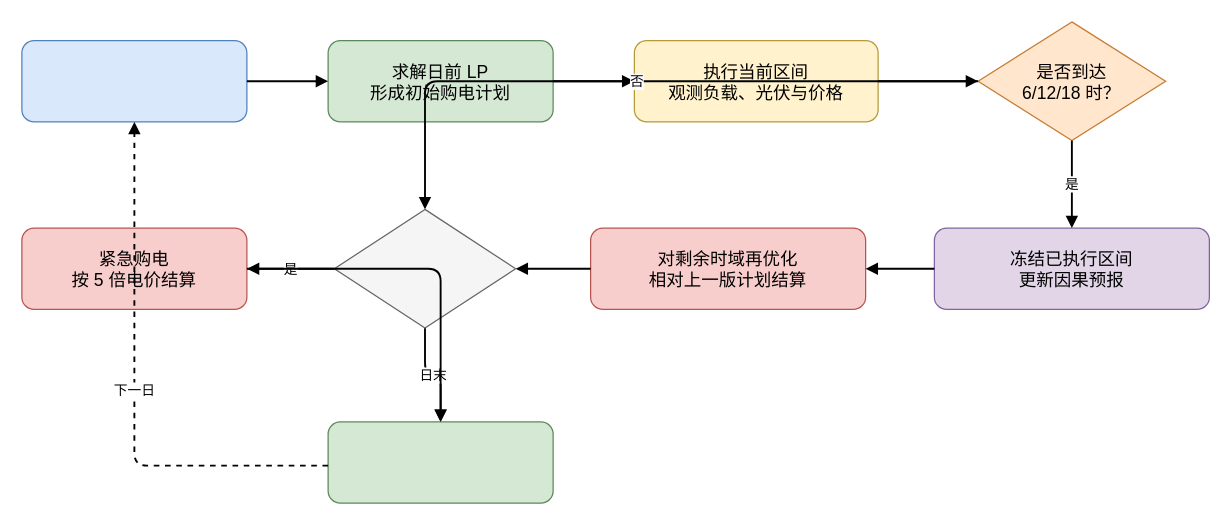
Image size: 1231x525. Some labels were removed from this diagram. Here are the shapes that lost their labels. From the top down, the centre of each, then its label:
At (x=134, y=80): "0:00 历史数据 + 首次预报".
At (x=424, y=268): "供需不足？".
At (x=440, y=462): "24:00 SOC 传递至次日".
